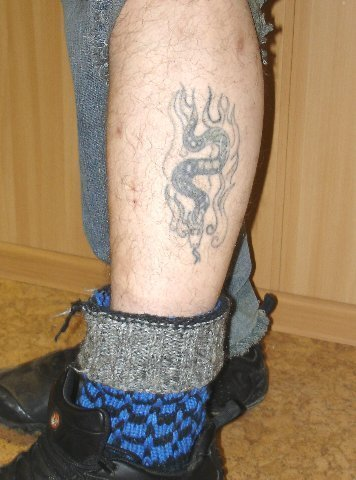tatu7_zmeya: (165, 72, 227, 255)
